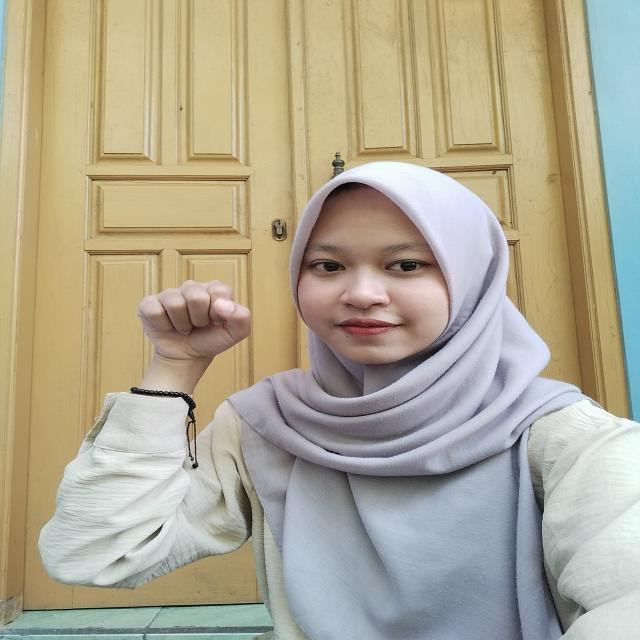baik: (111, 276, 258, 386)
